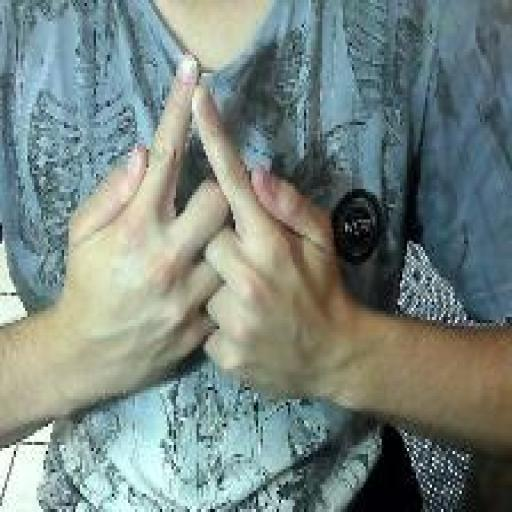Uma -horse-: (58, 49, 344, 402)
